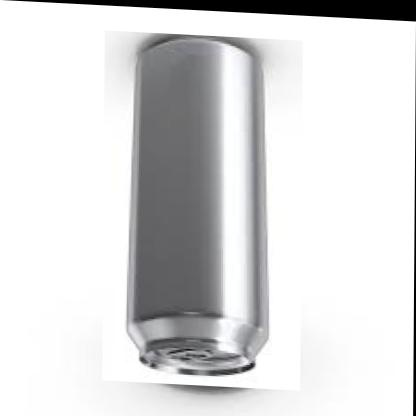trash: (127, 37, 267, 375)
